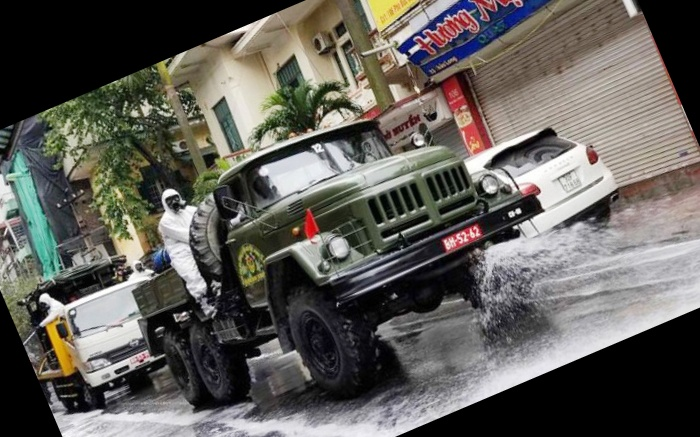plate: (437, 218, 486, 248), (555, 169, 582, 193)
